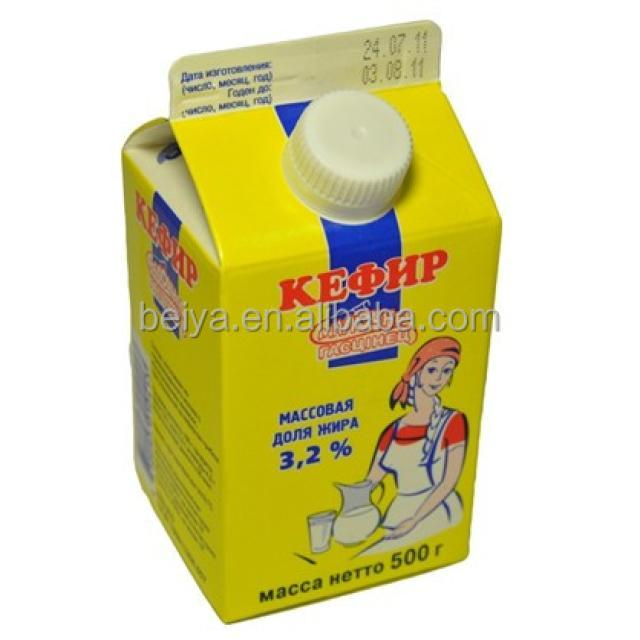Carton: (98, 9, 504, 640)
